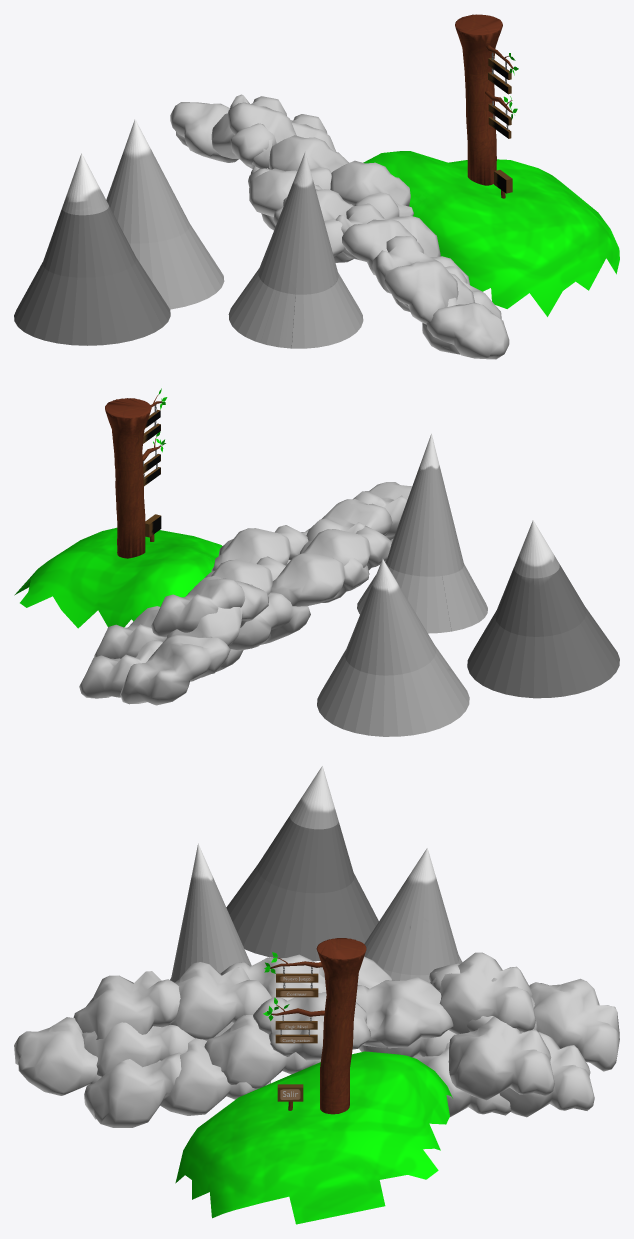
File: pantalla de inicio completa.fbx
3 views of the same model, one above another, from view 1: azimuth 30°, elevation 25°; view 2: azimuth 150°, elevation 25°; view 3: azimuth 270°, elevation 25° (orthographic). The views are drawn at different scales.
Parts seen in each view (by area): view 1: nubes, pasto, Cone.002, Cone, Cone.001, Tronco; view 2: nubes, Cone.001, Cone.002, pasto, Cone, Tronco; view 3: nubes, pasto, Cone.002, Cone.001, Tronco, Cone.
Part boxes in pixels (x1,y1,x2,y2): nubes: (170,94,509,359); pasto: (363,151,619,316); Cone.002: (14,153,170,345); Cone: (228,152,363,348); Cone.001: (106,119,224,309); Tronco: (455,14,502,185); nubes: (79,482,412,705); Cone.001: (317,559,469,736); Cone.002: (467,520,619,698); pasto: (14,527,222,628); Cone: (357,433,487,633); Tronco: (105,398,151,558); nubes: (14,952,619,1127); pasto: (175,1051,452,1224); Cone.002: (226,766,378,961); Cone.001: (364,848,462,982); Tronco: (316,938,366,1114); Cone: (170,843,251,1040).
Size of the model in its own units: 5404 by 2068 by 4712.
